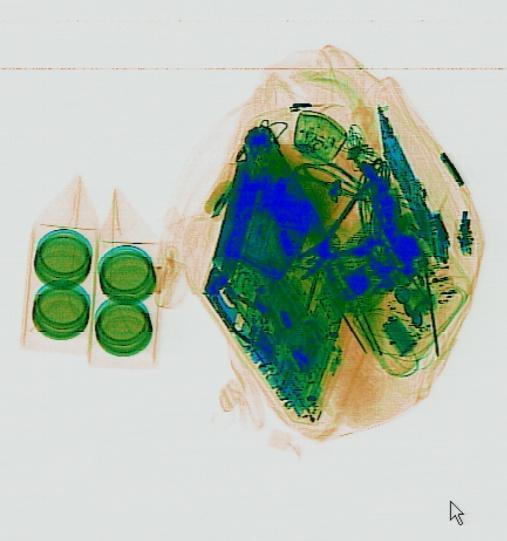Pliers: (278, 179, 407, 294)
